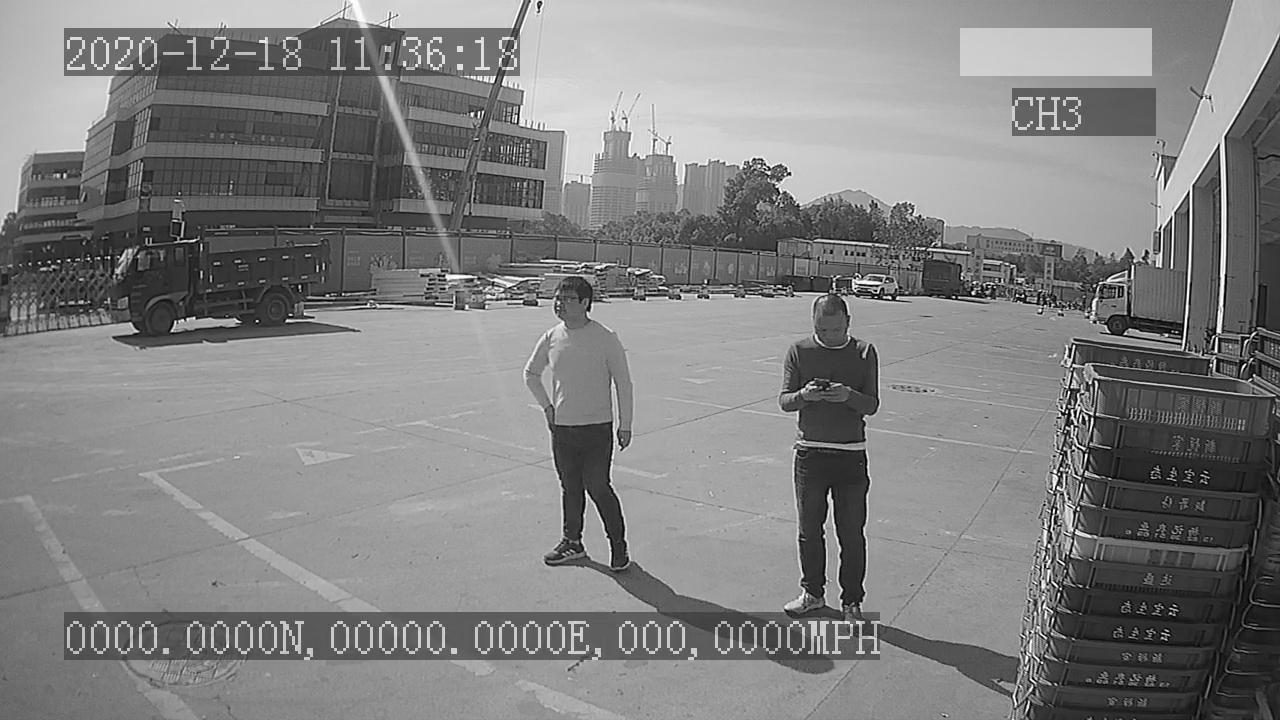person: (522, 270, 635, 572)
